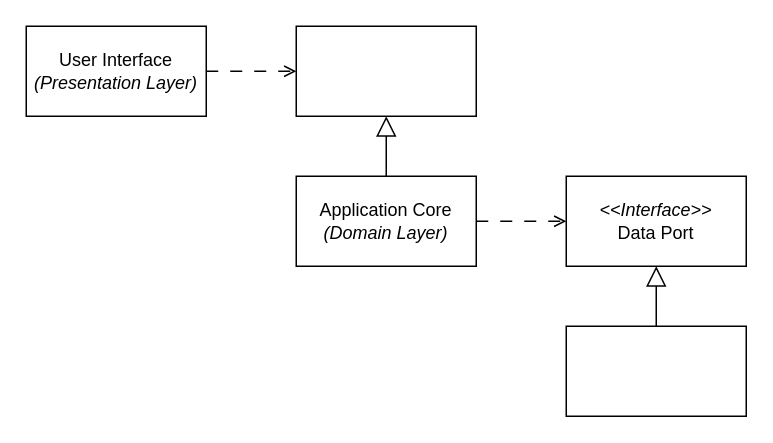
Some shapes in this 773 by 443 pixel diagram are drawn without their labels. The shapes that lost their labels are listed below. From the top down, each one's box as (x1, y1, x2, y2) in pixels, then its label:
(295, 25, 476, 116): <<Interface>> Input Port
(565, 325, 746, 416): Database Adapter (Data Layer)
